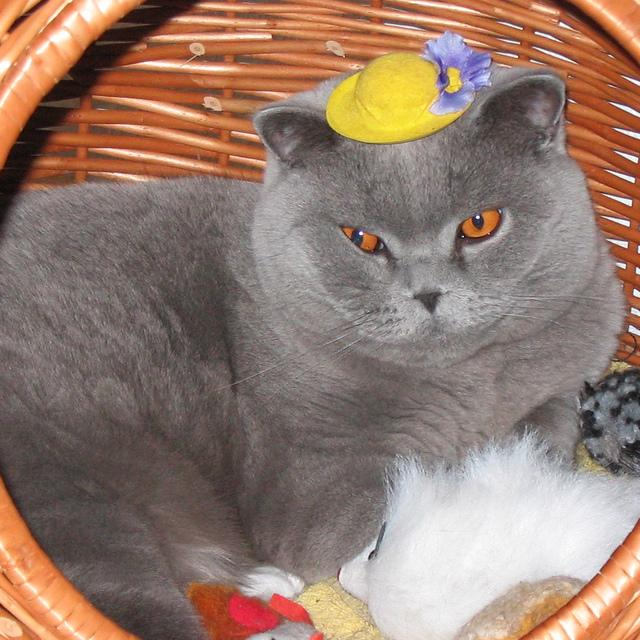animals: (253, 78, 557, 305)
